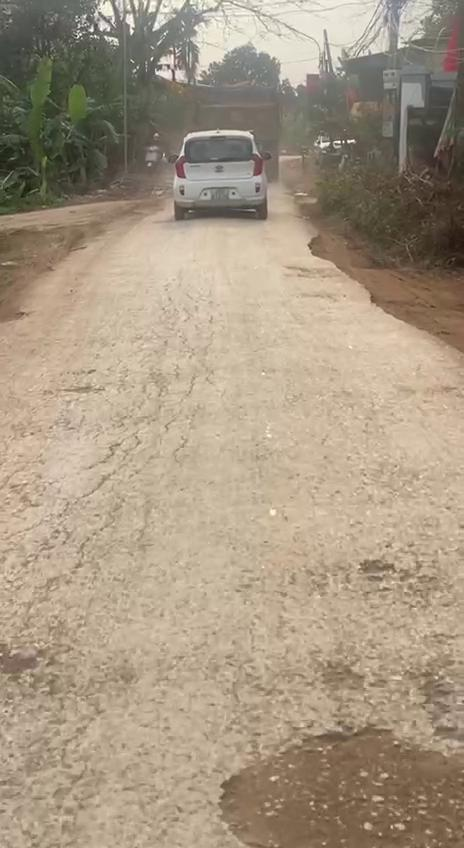pothole: (216, 721, 464, 848)
